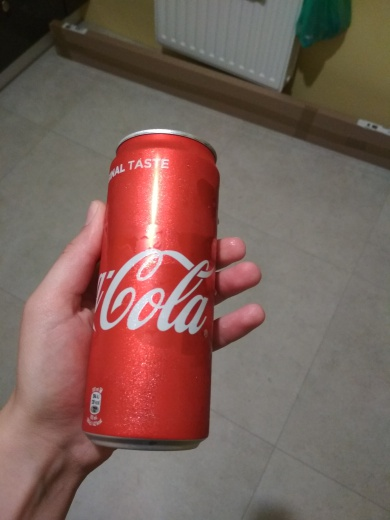cola: (65, 123, 224, 455)
